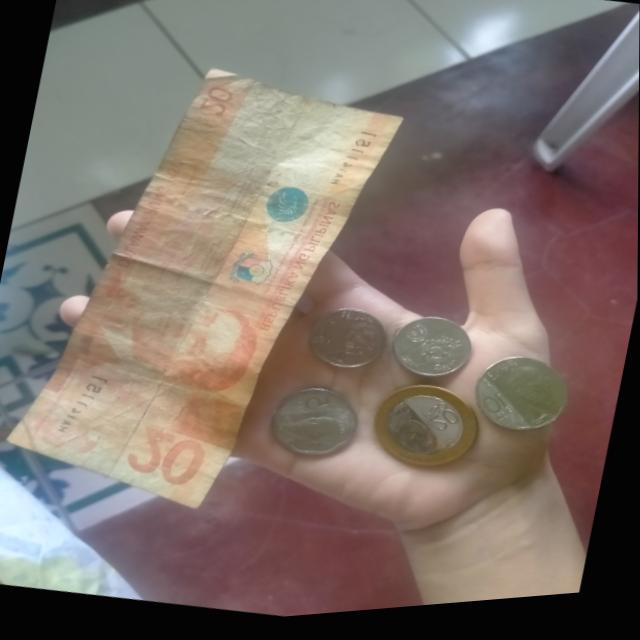20_New_Front: (416, 399, 466, 447)
